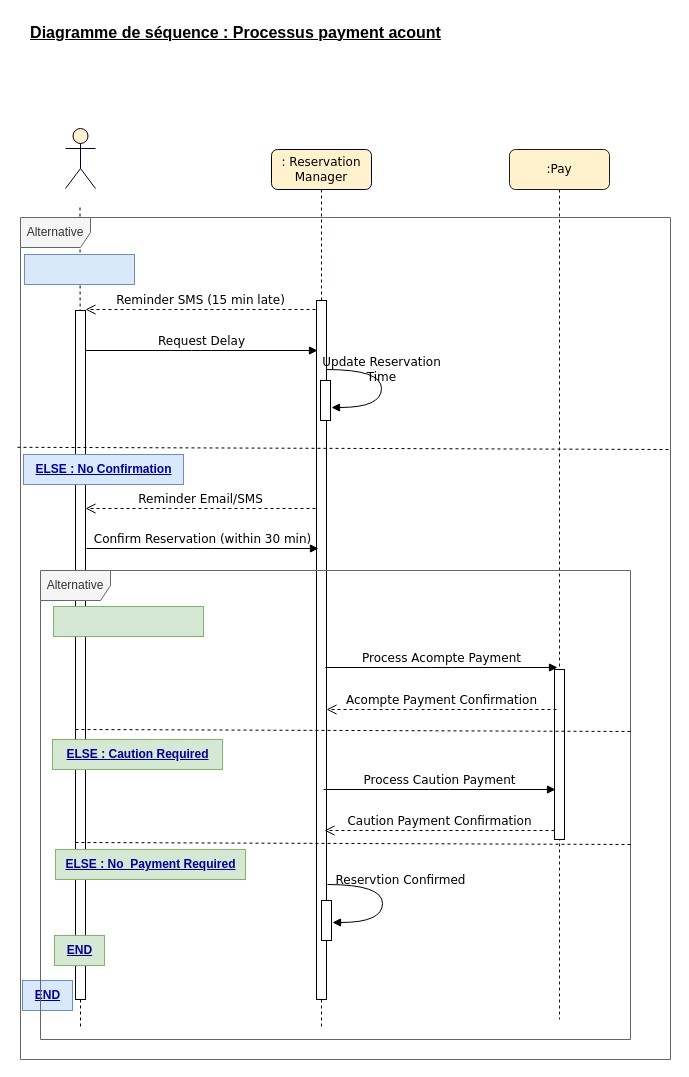
This 689x1077 diagram has some shape labels left out. Here are the shapes that lost their labels. From the top down, the centre of each, then its label:
pixel 80 158: Client
pixel 79 269: IF : Late Arrival
pixel 128 621: IF : Acompte Required
